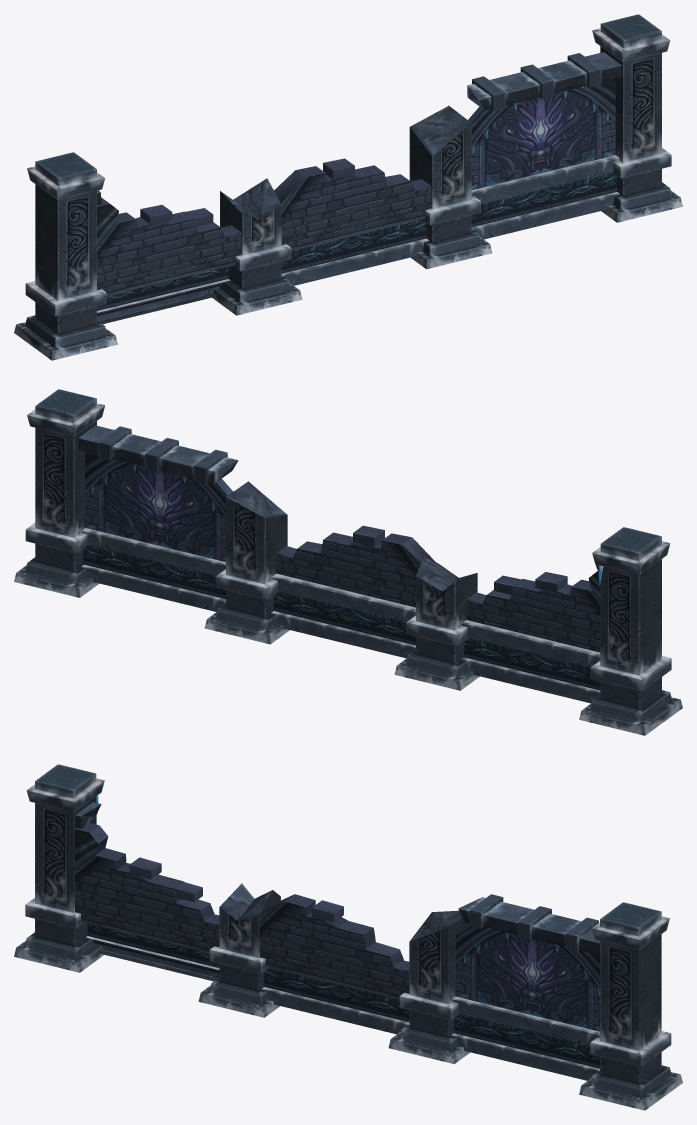
The model's file is Ice_wall11.FBX.
3 views of the same model, one above another, from view 1: azimuth 30°, elevation 25°; view 2: azimuth 150°, elevation 25°; view 3: azimuth 330°, elevation 25° (orthographic).
Visible parts, largest first — view 1: Object15889; view 2: Object15889; view 3: Object15889.
Part boxes in pixels (<box>): Object15889: <box>14,14,682,360</box>; Object15889: <box>14,389,682,735</box>; Object15889: <box>14,764,682,1110</box>.
Bounding box in the file's own units: 903 × 238 × 94.2.
